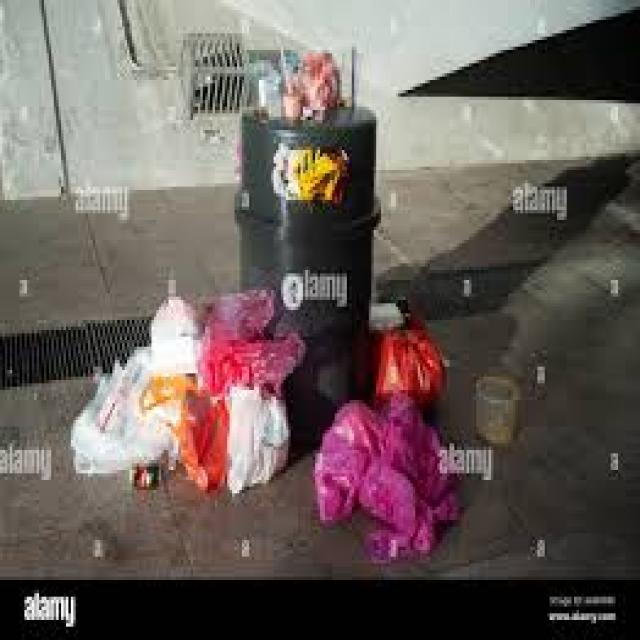bin_full: (247, 116, 371, 424)
normal_waste: (310, 404, 400, 536), (78, 354, 174, 476), (225, 396, 306, 490), (215, 299, 291, 394), (247, 56, 356, 116), (166, 383, 219, 502), (276, 138, 348, 202), (382, 336, 444, 410), (476, 368, 526, 458), (158, 296, 214, 376)
